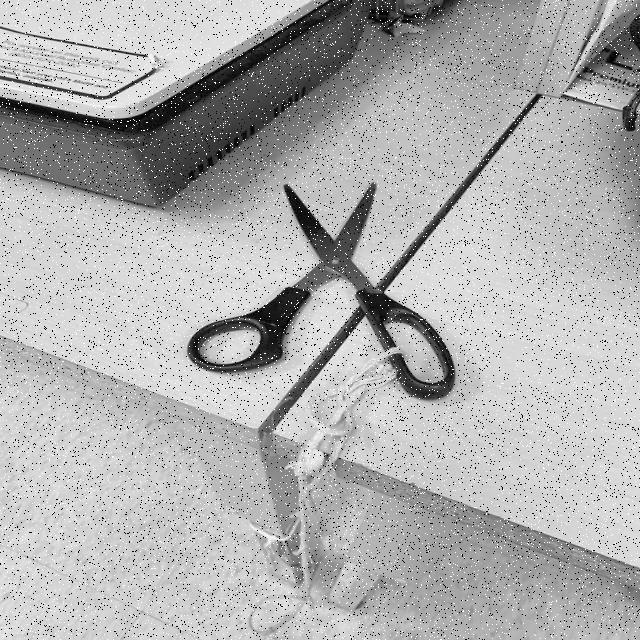scissors: (184, 182, 461, 402)
